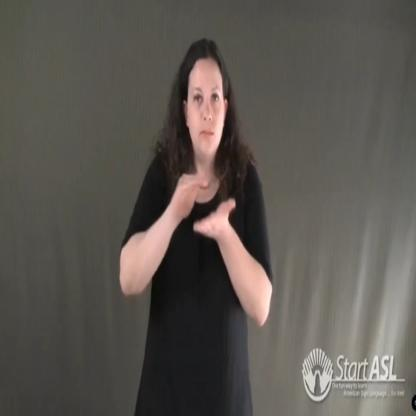ExcuseMe: (167, 144, 237, 254)
